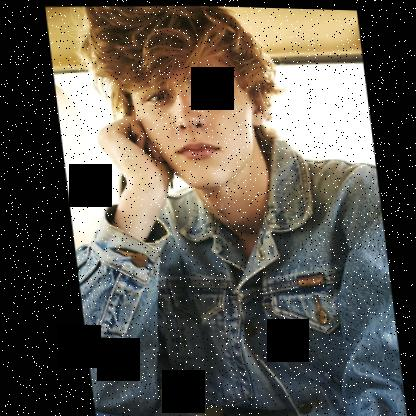Male: (121, 38, 273, 188)
